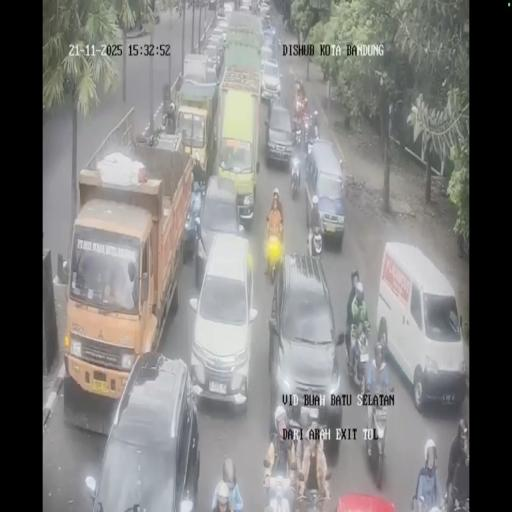3: (376, 242, 465, 412), (172, 60, 218, 183), (221, 7, 264, 83)
car: (87, 352, 199, 509), (268, 254, 343, 442), (196, 173, 246, 284), (304, 140, 346, 248), (265, 98, 295, 168), (336, 493, 395, 512), (260, 57, 281, 101), (202, 41, 224, 80), (261, 26, 276, 54), (214, 16, 230, 40), (222, 1, 234, 17), (260, 0, 270, 18), (240, 0, 251, 12), (208, 0, 218, 11)
truck: (362, 382, 392, 488), (346, 318, 371, 389), (262, 463, 294, 512), (292, 476, 330, 511), (265, 231, 283, 283), (307, 224, 323, 258), (163, 101, 176, 133), (306, 114, 318, 148), (290, 162, 301, 199), (292, 119, 304, 148), (178, 1, 184, 15), (283, 18, 289, 32)
